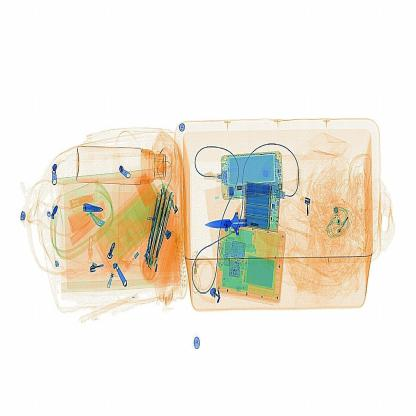gun: (197, 198, 259, 252)
